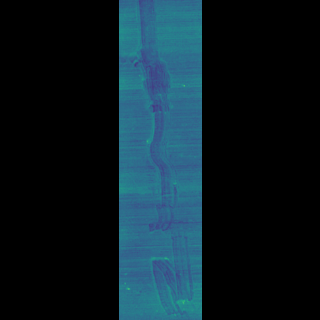Loch: (153, 0, 164, 233), (156, 218, 169, 318)
